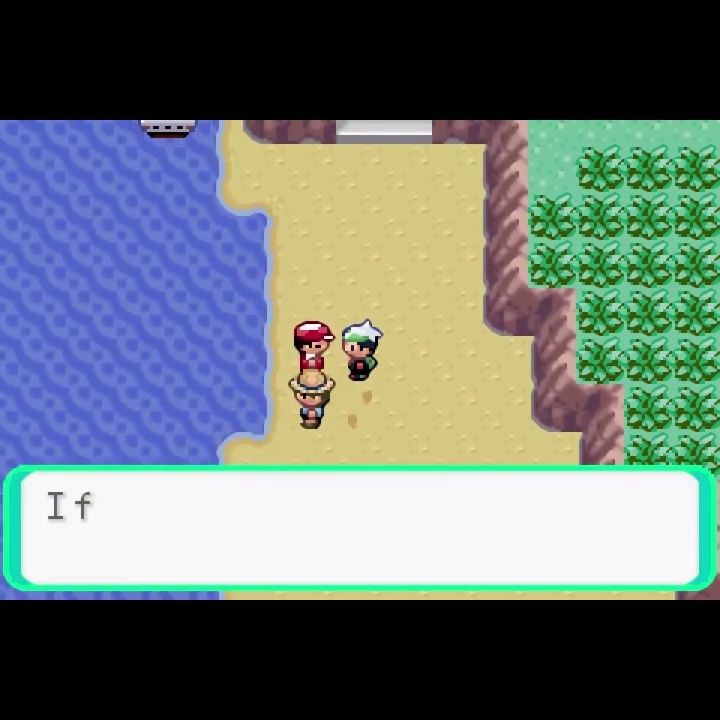grass: (575, 144, 625, 193), (527, 192, 576, 242), (625, 143, 673, 194), (576, 191, 624, 242), (577, 239, 625, 290), (625, 192, 673, 242), (627, 240, 674, 291), (673, 287, 720, 338), (528, 240, 577, 288), (673, 143, 720, 193), (673, 334, 720, 384), (577, 335, 625, 383), (673, 192, 720, 241), (577, 288, 626, 335), (625, 335, 672, 384), (673, 241, 720, 289), (625, 385, 673, 432), (674, 383, 720, 432), (626, 289, 673, 336), (674, 432, 720, 466), (625, 433, 673, 465)
npc: (287, 369, 337, 433), (340, 318, 387, 384), (291, 319, 337, 369)
